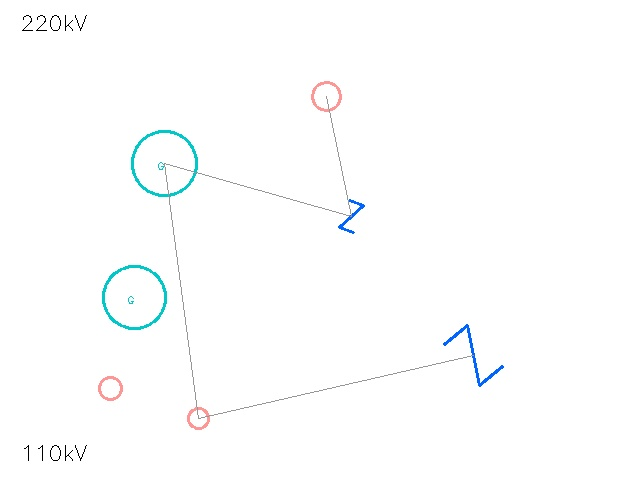circuit_breaker: (443, 325, 503, 385), (335, 200, 367, 232)
current_transformer: (298, 68, 354, 124), (178, 398, 218, 438)
generator: (132, 131, 196, 195), (103, 266, 165, 328)
reactor: (87, 365, 133, 411)
